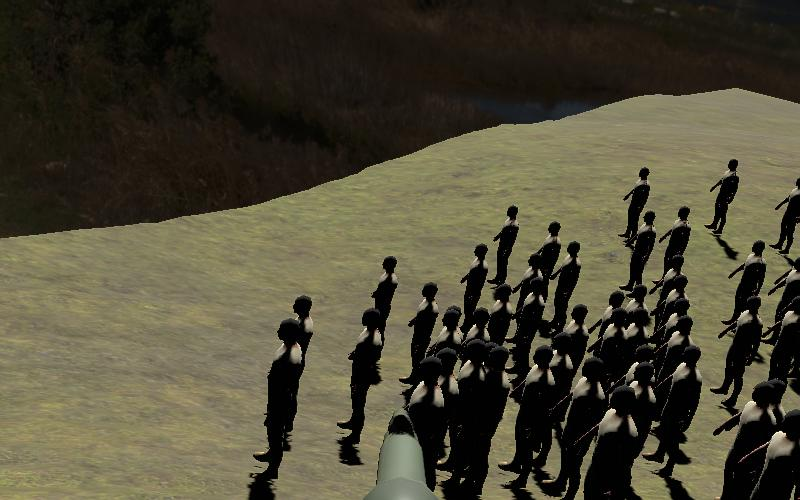Human: (712, 385, 799, 499), (713, 391, 799, 500), (745, 400, 800, 499), (704, 158, 744, 238), (619, 166, 654, 244)
